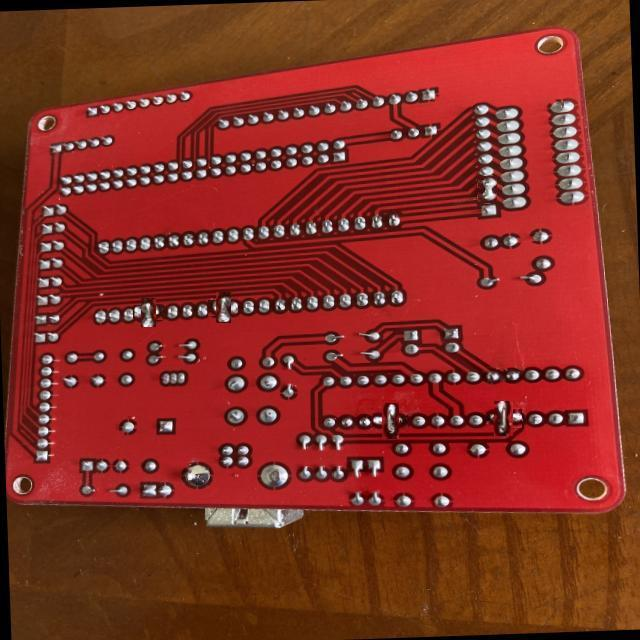damged: (490, 405, 518, 432), (377, 408, 404, 434), (477, 175, 497, 204), (212, 296, 235, 320), (137, 301, 160, 324)
